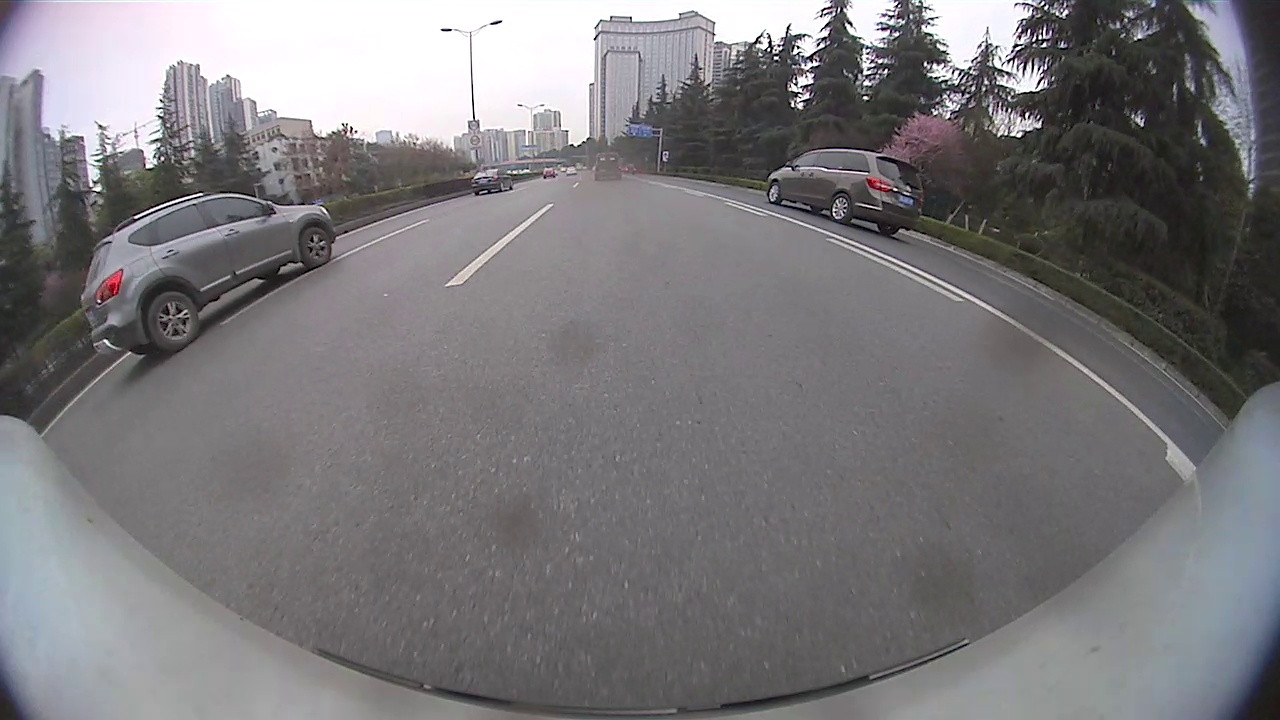car: (79, 190, 338, 357), (765, 146, 924, 236), (470, 166, 513, 196), (593, 151, 623, 181)
front: (300, 228, 334, 266), (768, 182, 782, 204)
rear: (146, 291, 201, 353), (829, 193, 852, 223)
